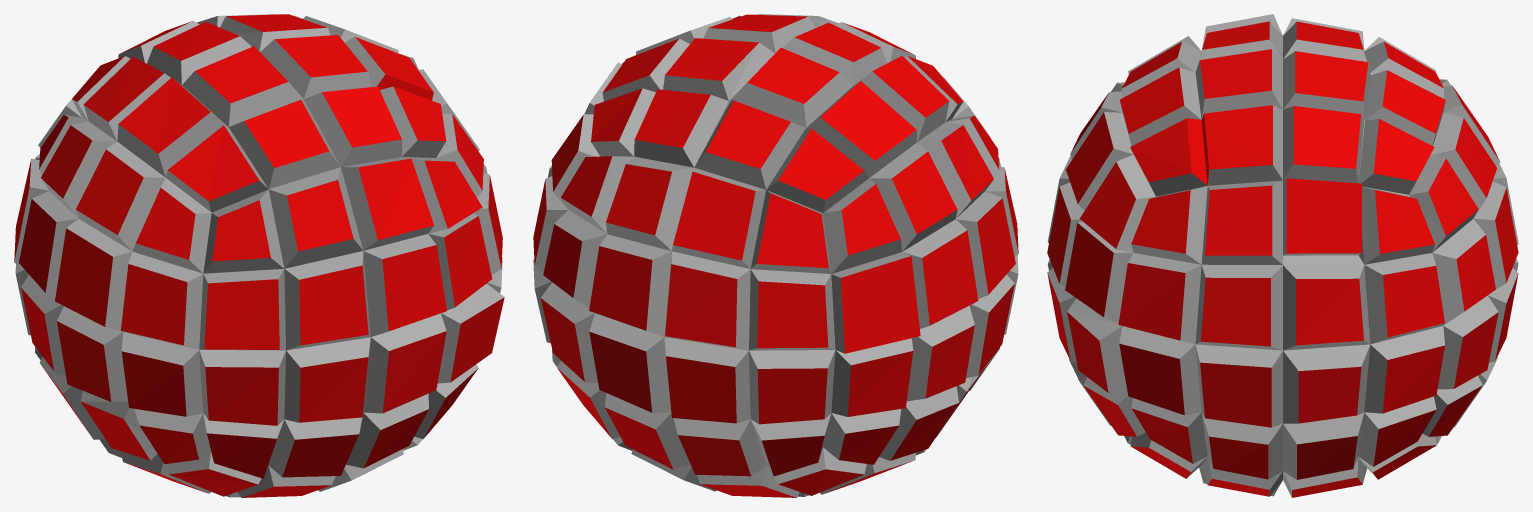
File: DiscoPogo.fbx
3 renders of one model, left to right at view 1: azimuth 30°, elevation 25°; view 2: azimuth 150°, elevation 25°; view 3: azimuth 270°, elevation 25°, orthographic. The views are drawn at different scales.
Parts seen in each view (by area): view 1: pCube1; view 2: pCube1; view 3: pCube1.
Boxes of the visible parts, x1,y1,x2,y2 form: pCube1: [14, 14, 504, 497]; pCube1: [533, 14, 1018, 497]; pCube1: [1047, 14, 1518, 497].
Bounding box in the file's own units: 3.34 × 3.34 × 3.34.
